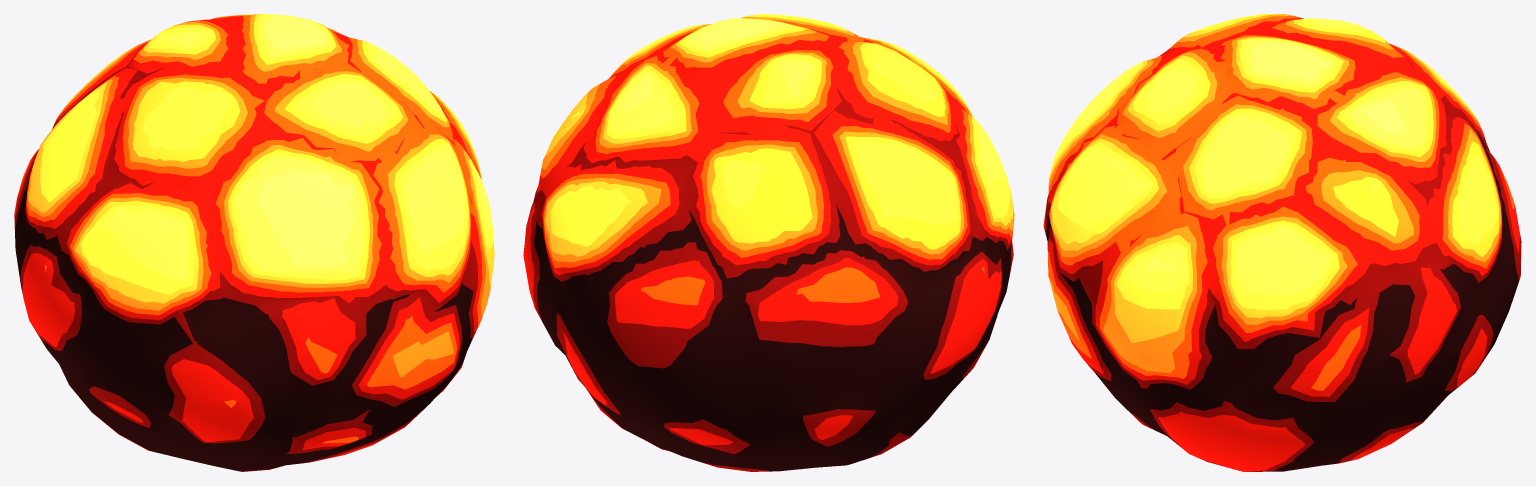
Rendered from lava_ball.glb.
3 renders of one model, left to right at view 1: azimuth 30°, elevation 25°; view 2: azimuth 150°, elevation 25°; view 3: azimuth 270°, elevation 25°, orthographic. The views are drawn at different scales.
Parts seen in each view (by area): view 1: lava_ball; view 2: lava_ball; view 3: lava_ball.
Boxes of the visible parts, box(x1,y1,x2,y2) form: lava_ball: box(14, 14, 494, 471); lava_ball: box(523, 14, 1014, 471); lava_ball: box(1043, 14, 1521, 471).
Bounding box in the file's own units: 22.54 × 21.39 × 22.6.
